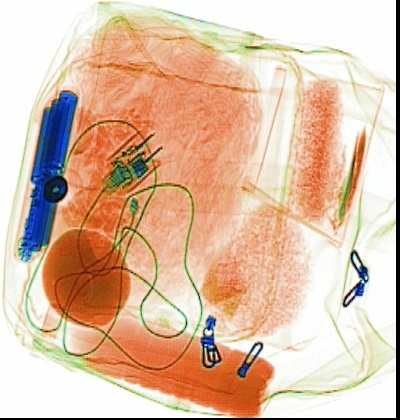powerbank: (11, 86, 80, 265)
